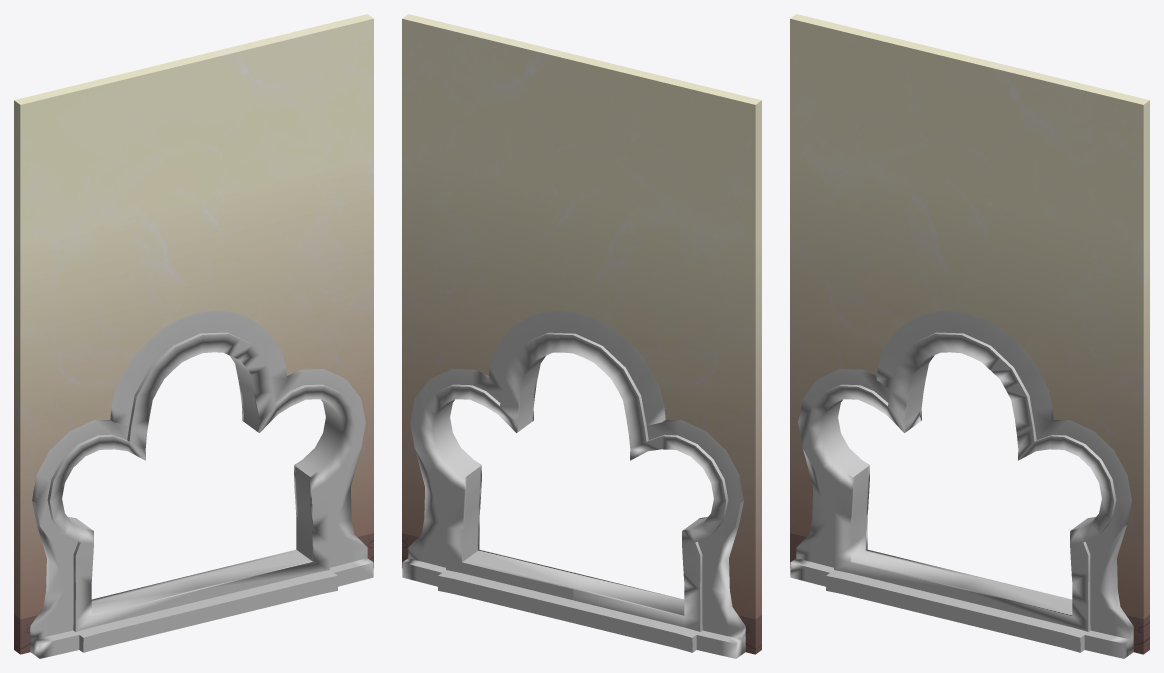
File: windowAndWall.fbx
The picture shows the model from 3 angles, left to right: view 1: azimuth 30°, elevation 25°; view 2: azimuth 150°, elevation 25°; view 3: azimuth 330°, elevation 25°; orthographic projection.
Parts seen in each view (by area): view 1: WallWindow, Window; view 2: WallWindow, Window; view 3: WallWindow, Window.
Part boxes in pixels (x1,y1,x2,y2): WallWindow: (14,14,373,654); Window: (30,310,373,658); WallWindow: (402,14,761,654); Window: (402,310,745,658); WallWindow: (790,14,1149,654); Window: (790,310,1133,658).
Size of the model in its own units: 1267 by 1884 by 207.
